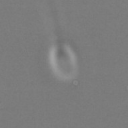normal: (44, 1, 66, 45)
